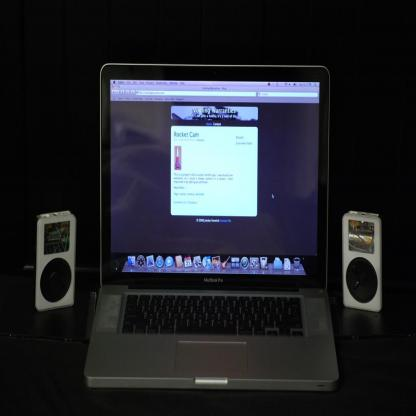board: (82, 65, 338, 392)
